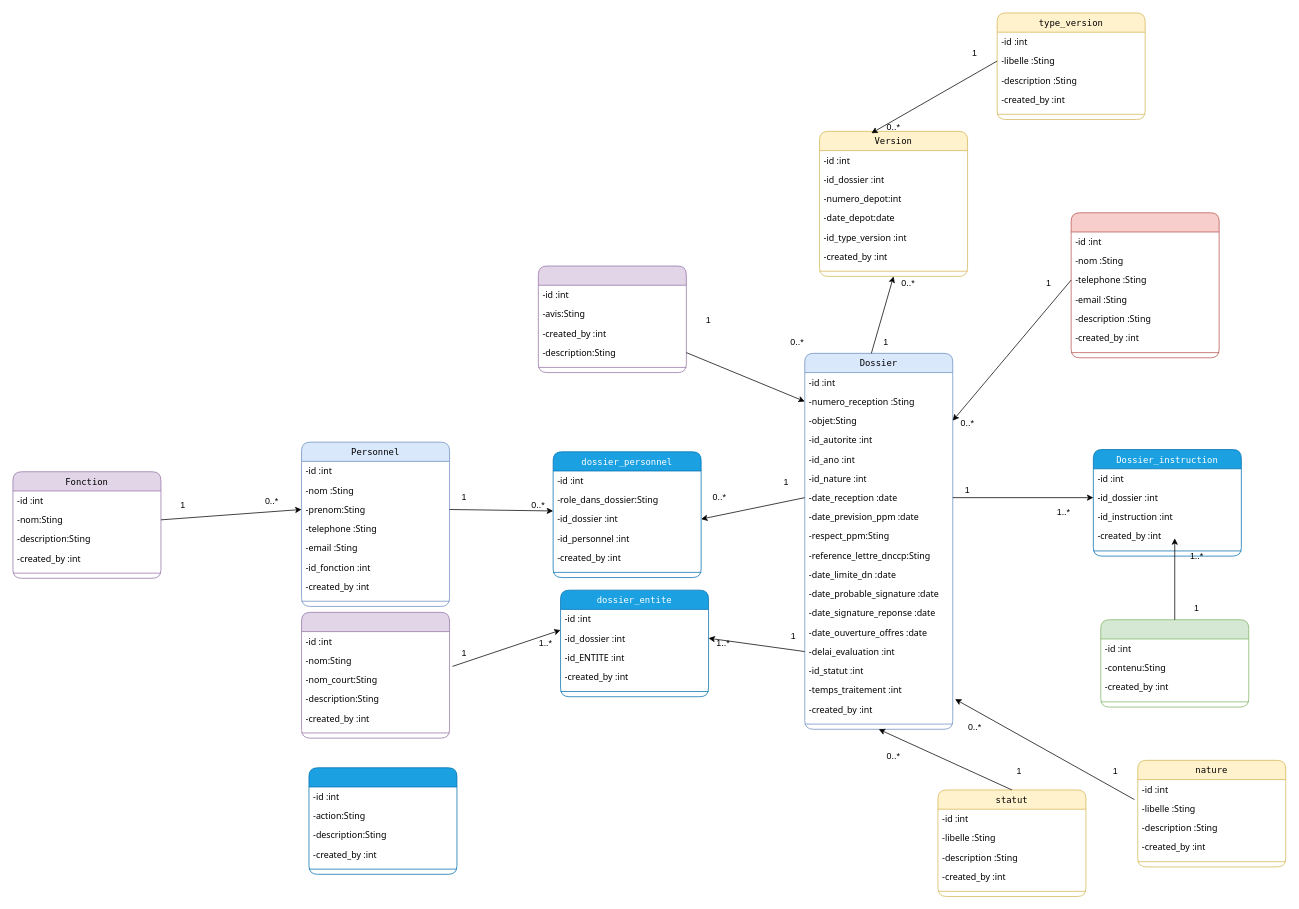
This 1299x909 diagram has some shape labels left out. Here are the shapes that lost their labels. From the top down, the box of each, then its label:
(1070, 212, 1219, 358): Autorite
(538, 265, 686, 373): Ano
(301, 612, 450, 738): Entite
(1100, 619, 1249, 707): Instruction
(308, 767, 457, 874): log
